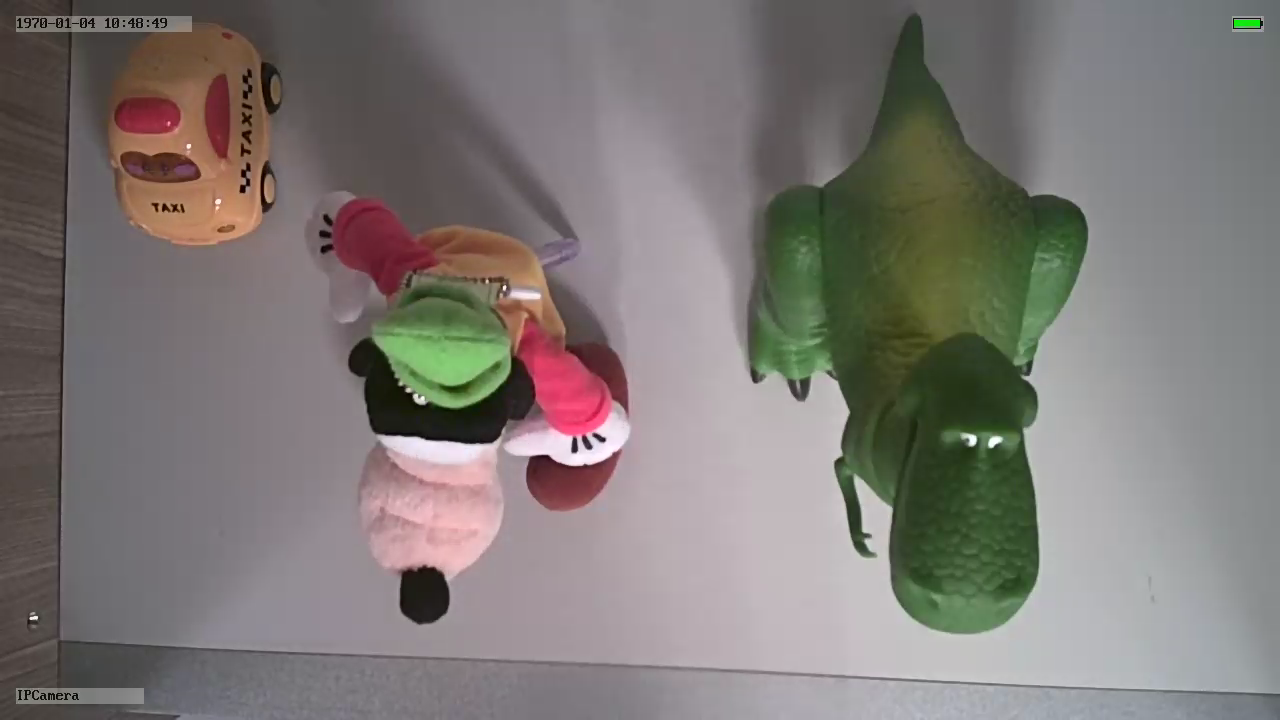goofy: (305, 190, 634, 631)
